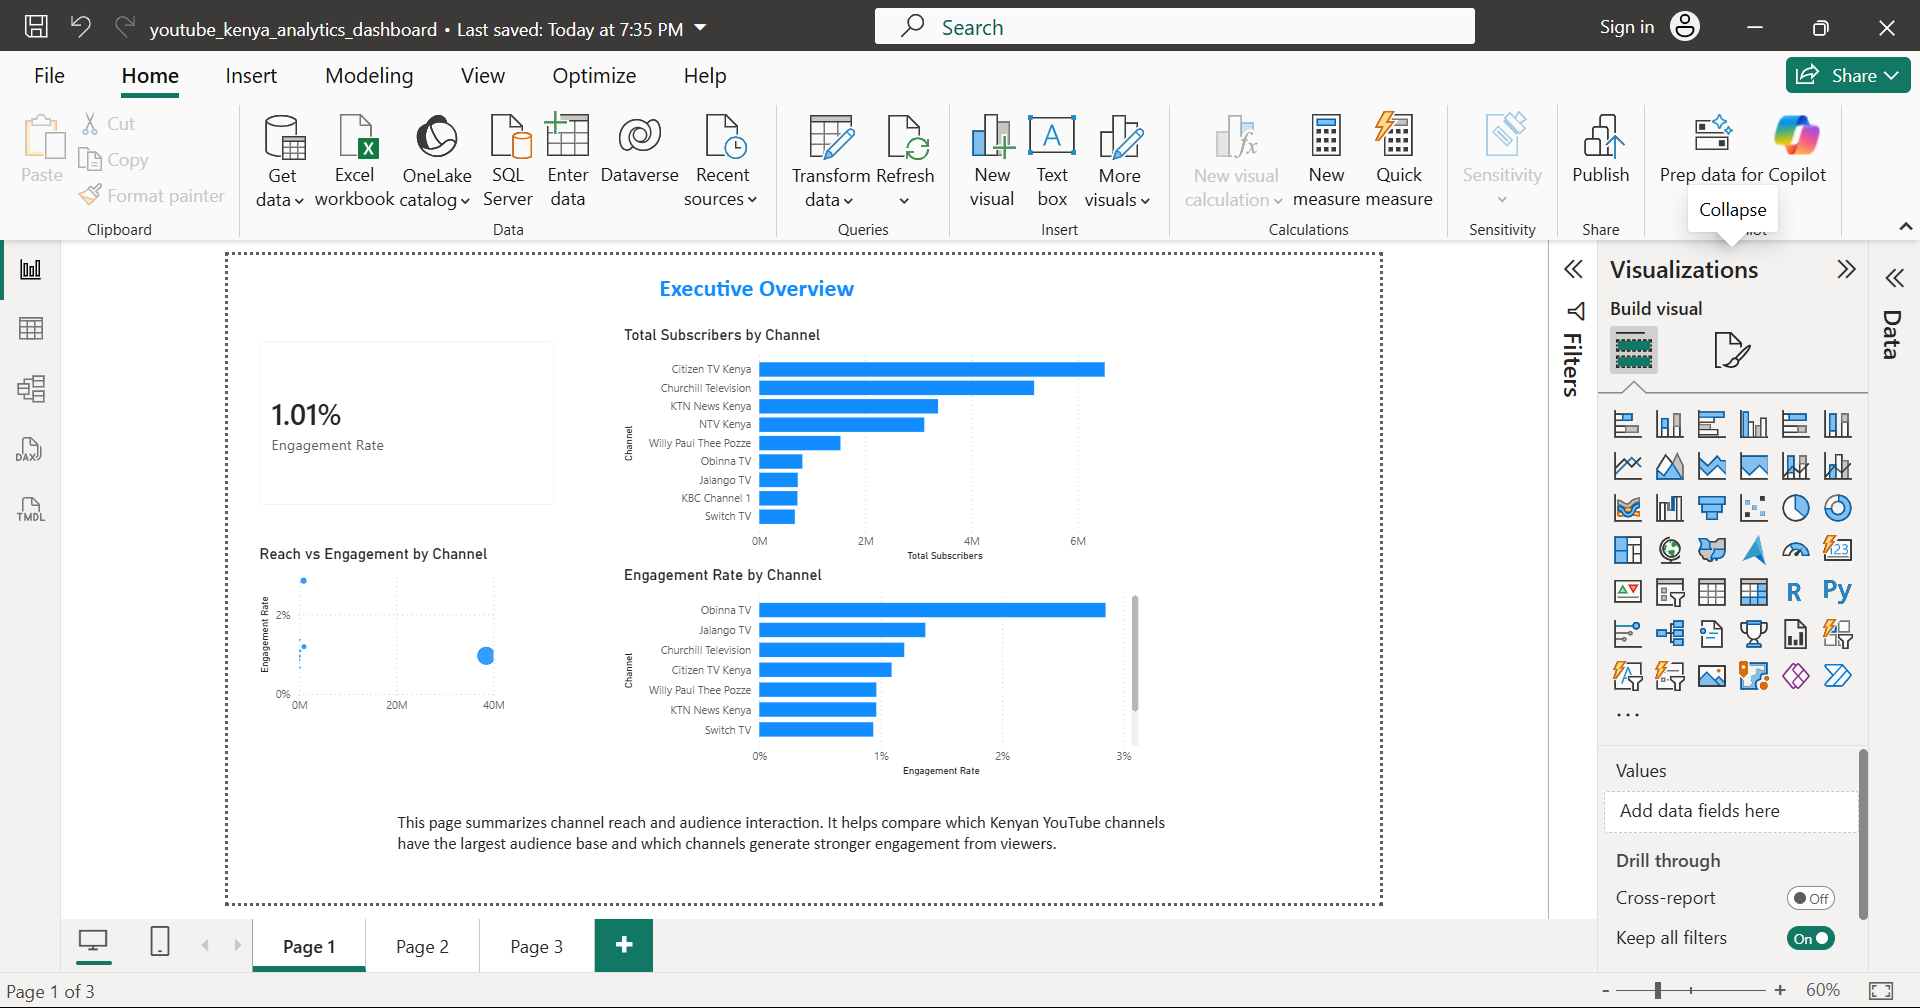

The dashboard page shown, as its layout file describes it:
{"tool":"powerbi","page":{"name":"Page 1","canvas":[1280,720],"ordinal":0},"visuals":[{"type":"cardVisual","fields":{"Data":["public fact_video_performance.Engagement Rate"]},"box":[18.3,78.3,361.7,216.7],"z":0},{"type":"clusteredBarChart","fields":{"Category":["public dim_channel.channel_title"],"Y":["public fact_video_performance.Engagement Rate"]},"box":[435,345,581.7,238.3],"z":1000},{"type":"scatterChart","title":"Reach vs Engagement by Channel","fields":{"X":["public fact_video_performance.Total Views"],"Y":["public fact_video_performance.Engagement Rate"],"Category":["public dim_channel.channel_title"],"Size":["public fact_video_performance.Total Likes"]},"box":[30,321.7,281.7,205],"z":2000},{"type":"clusteredBarChart","fields":{"Category":["public dim_channel.channel_title"],"Y":["public fact_channel_stats.Total Subscribers"]},"box":[435,78.3,581.7,266.7],"z":3000},{"type":"textbox","box":[143.3,613.3,938.3,70],"z":4000},{"type":"textbox","box":[266.7,15,641.7,63.3],"z":5000}]}

Visuals, with their boxes on the page's 1280x720 design canvas (x1, y1, x2, y2). These are canvas units, not pixel positions in the 1920x1008 screenshot, which may show the page scaled, cropped or inside an application window:
cardVisual - public fact_video_performance.Engagement Rate: (18, 78, 380, 295)
clusteredBarChart - public dim_channel.channel_title x public fact_video_performance.Engagement Rate: (435, 345, 1017, 583)
"Reach vs Engagement by Channel" scatterChart: (30, 322, 312, 527)
clusteredBarChart - public dim_channel.channel_title x public fact_channel_stats.Total Subscribers: (435, 78, 1017, 345)
textbox: (143, 613, 1082, 683)
textbox: (267, 15, 908, 78)
